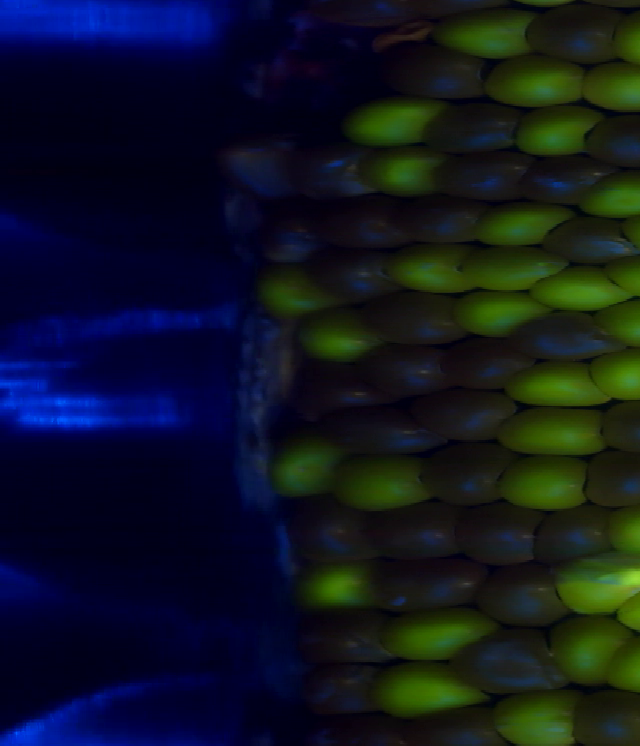fluorescent: (369, 658, 492, 717), (492, 404, 614, 457), (496, 448, 597, 512), (545, 617, 637, 687), (338, 448, 436, 512), (380, 607, 502, 657), (507, 357, 620, 409), (480, 58, 592, 110), (430, 8, 538, 61), (339, 97, 452, 147), (463, 245, 573, 293), (295, 307, 388, 363), (528, 261, 632, 311), (489, 689, 581, 745), (551, 551, 640, 608), (358, 143, 448, 199), (511, 106, 607, 158), (453, 288, 552, 337), (384, 243, 474, 295), (258, 272, 341, 323), (474, 203, 577, 244), (273, 443, 341, 500), (295, 563, 376, 608), (574, 170, 640, 219), (588, 349, 640, 405), (580, 62, 640, 110), (594, 296, 640, 350), (609, 630, 640, 692), (607, 499, 640, 557), (602, 253, 640, 301)
nonfluorescent: (450, 635, 569, 695), (376, 43, 485, 105), (319, 406, 460, 451), (523, 4, 621, 66), (360, 292, 472, 346), (451, 498, 544, 563), (411, 387, 522, 441), (369, 559, 487, 609), (483, 561, 572, 627), (286, 500, 383, 560), (420, 445, 513, 507), (285, 141, 379, 201), (510, 311, 624, 359), (377, 498, 462, 562), (297, 362, 400, 412), (357, 342, 448, 398), (519, 154, 615, 206), (531, 506, 618, 563), (216, 138, 299, 197), (294, 616, 396, 664), (310, 248, 404, 299), (318, 196, 411, 247), (546, 214, 637, 265), (253, 196, 322, 263), (209, 184, 266, 265), (441, 149, 528, 202), (448, 338, 532, 391), (429, 102, 516, 153), (297, 664, 386, 712), (401, 195, 486, 244), (573, 691, 640, 746), (404, 709, 502, 745), (586, 112, 640, 172), (581, 455, 640, 509), (306, 1, 425, 24), (598, 398, 640, 455), (330, 717, 408, 746)
